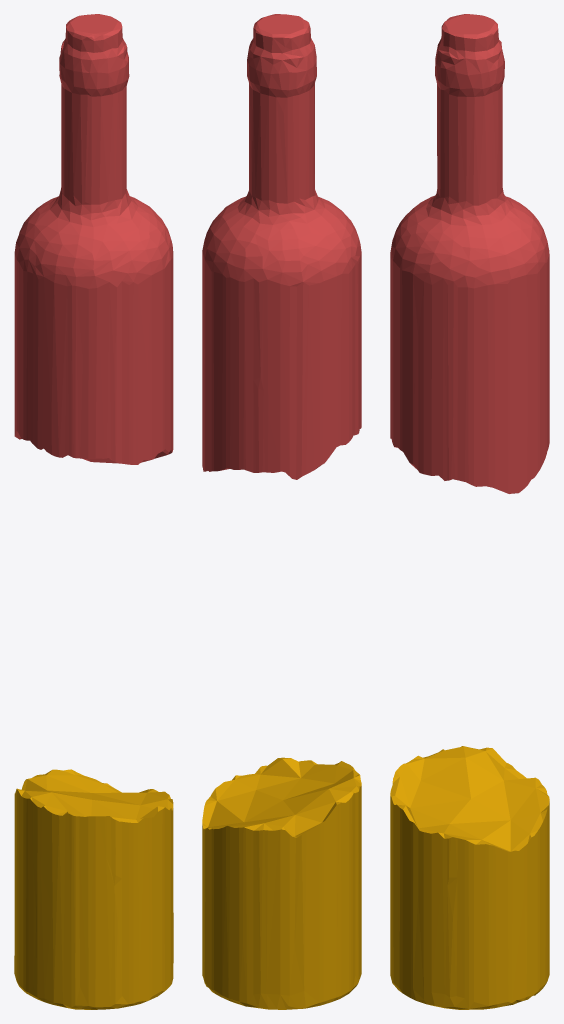
Rendered from fractured_59_2pcs_transformed.glb.
3 renders of one model, left to right at view 1: azimuth 30°, elevation 25°; view 2: azimuth 150°, elevation 25°; view 3: azimuth 270°, elevation 25°, orthographic.
Parts seen in each view (by area): view 1: piece_1.obj, piece_0.obj; view 2: piece_1.obj, piece_0.obj; view 3: piece_1.obj, piece_0.obj.
Part boxes in pixels (<box>): piece_1.obj: <box>14,14,173,464</box>; piece_0.obj: <box>14,769,173,1009</box>; piece_1.obj: <box>202,14,361,479</box>; piece_0.obj: <box>202,757,361,1009</box>; piece_1.obj: <box>390,14,549,493</box>; piece_0.obj: <box>390,746,549,1009</box>.
Bounding box in the file's own units: 0.2419 × 1.6 × 0.242.
